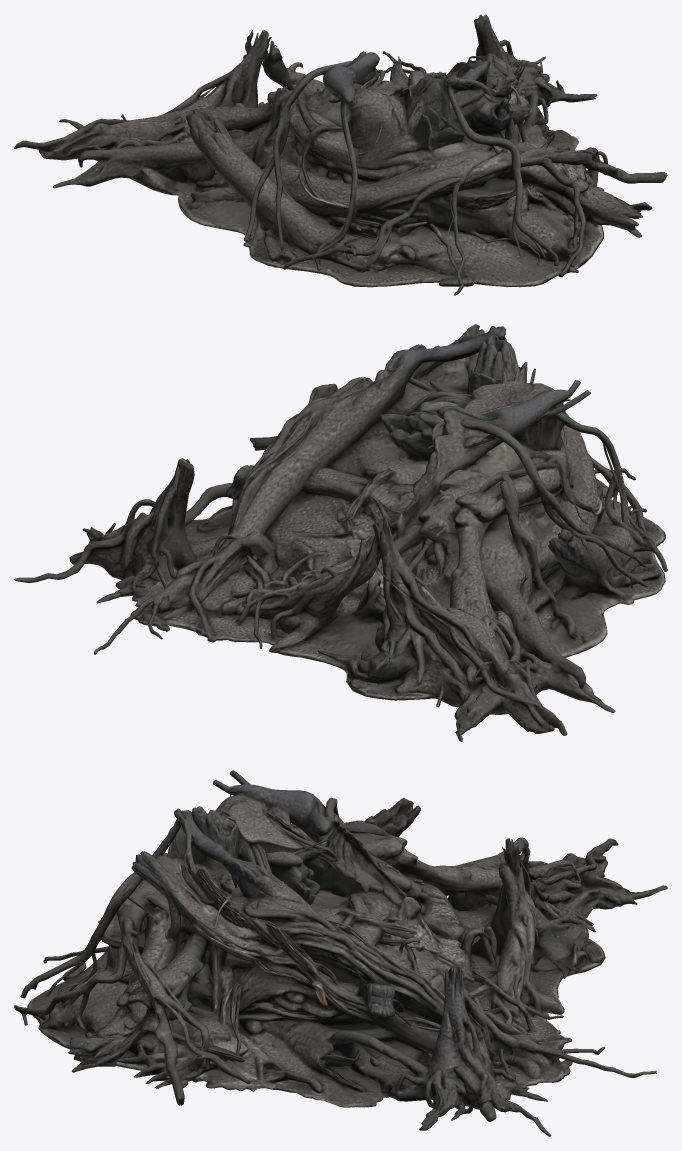
The model's file is heap.glb.
The picture shows the model from 3 angles, top to bottom: view 1: azimuth 30°, elevation 25°; view 2: azimuth 150°, elevation 25°; view 3: azimuth 270°, elevation 25°; orthographic projection. The views are drawn at different scales.
Parts seen in each view (by area): view 1: tripo_node_e6434325-6d12-4d84-941c-df5993a5ec71; view 2: tripo_node_e6434325-6d12-4d84-941c-df5993a5ec71; view 3: tripo_node_e6434325-6d12-4d84-941c-df5993a5ec71.
Part boxes in pixels (x1,y1,x2,y2): tripo_node_e6434325-6d12-4d84-941c-df5993a5ec71: (14,14,667,295); tripo_node_e6434325-6d12-4d84-941c-df5993a5ec71: (14,324,667,741); tripo_node_e6434325-6d12-4d84-941c-df5993a5ec71: (14,770,667,1136).
Size of the model in its own units: 0.9843 by 0.3111 by 0.9654.
Materials: 1 (1 with a texture image).
